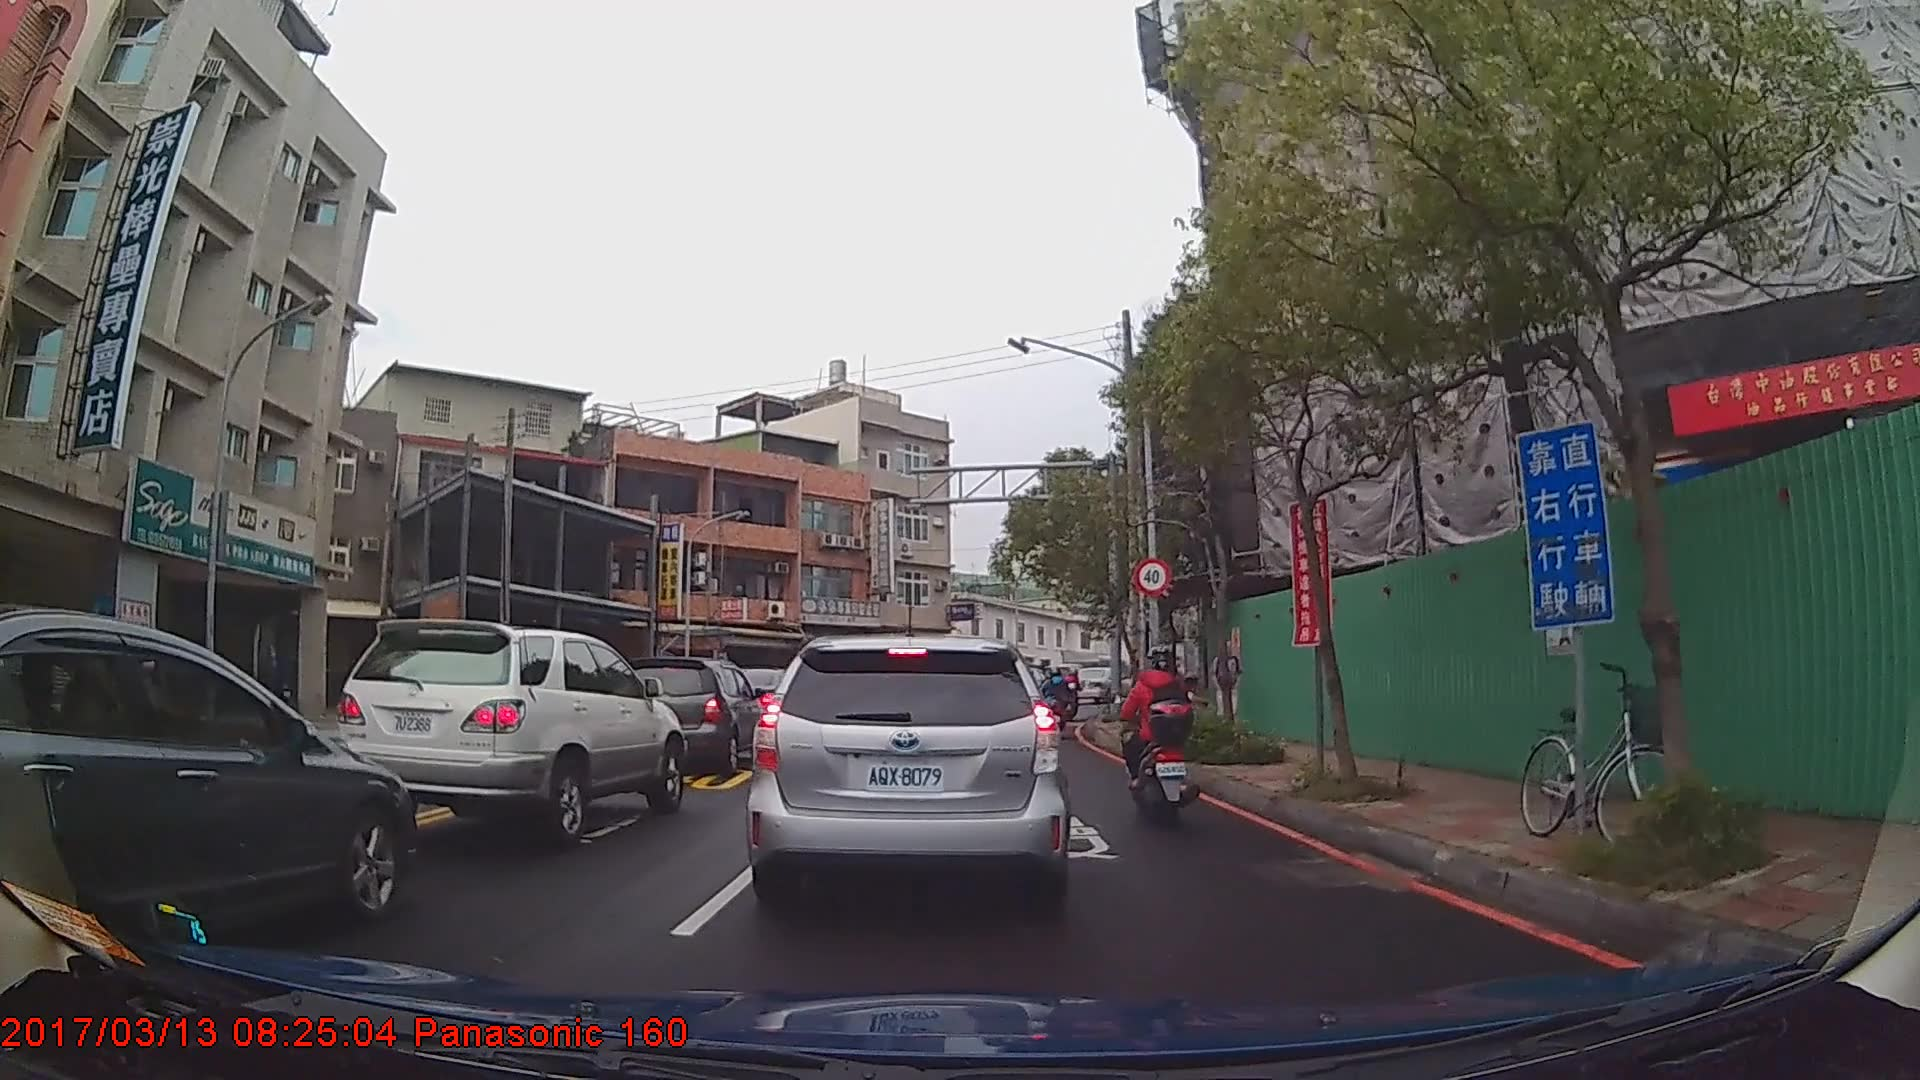pedestrian: (1208, 639, 1245, 739)
rider: (1114, 646, 1199, 829), (1047, 667, 1075, 742), (1061, 667, 1083, 724)
vehicle: (0, 605, 418, 958), (746, 633, 1073, 916), (332, 617, 689, 841), (618, 656, 768, 772)
